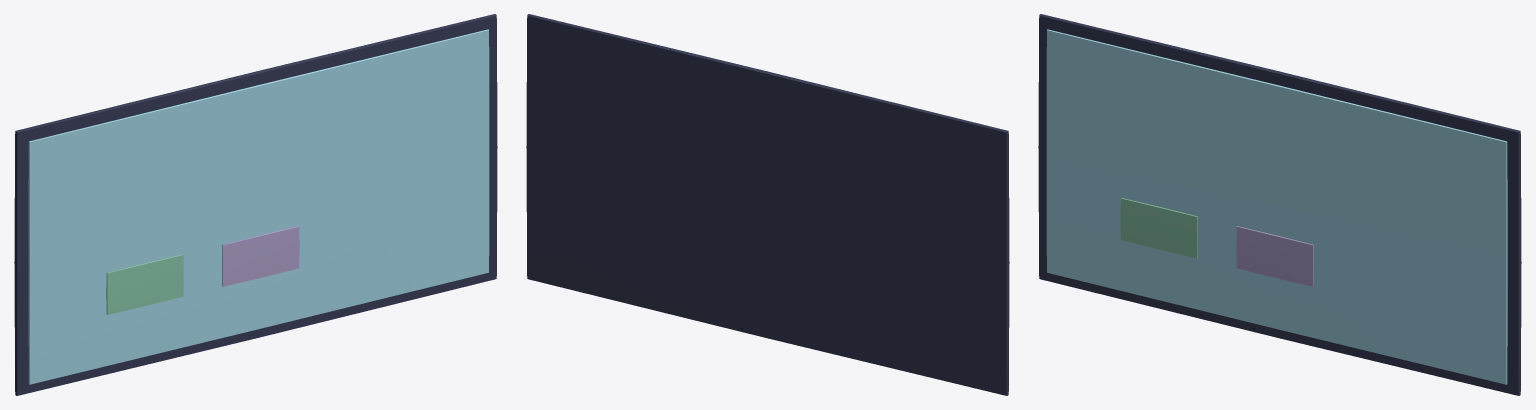
The model's file is wall-tv.glb.
The picture shows the model from 3 angles, left to right: view 1: azimuth 30°, elevation 25°; view 2: azimuth 150°, elevation 25°; view 3: azimuth 330°, elevation 25°; orthographic projection.
Parts seen in each view (by area): view 1: part (×4); view 2: part; view 3: part (×4).
Part boxes in pixels (bbox=[...]): part (×4): bbox=[14, 14, 497, 395]; part: bbox=[526, 14, 1009, 395]; part (×4): bbox=[1038, 14, 1521, 395].
Bounding box in the file's own units: 1.8 × 0.95 × 0.048.
Materials: 1 (1 with a texture image).
